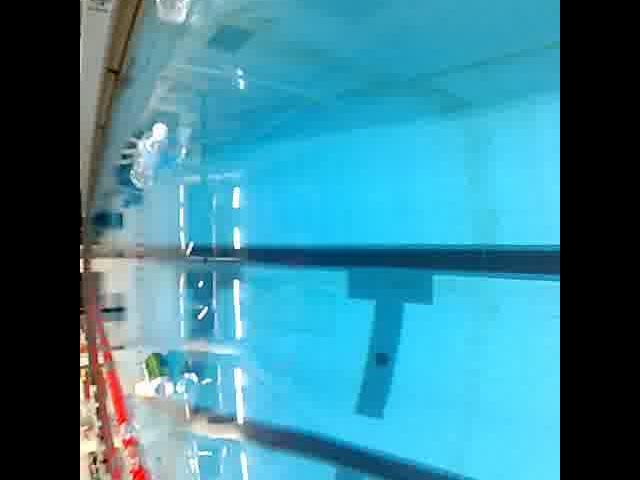Bottle: (130, 117, 176, 192), (137, 348, 185, 400), (151, 0, 193, 31)
